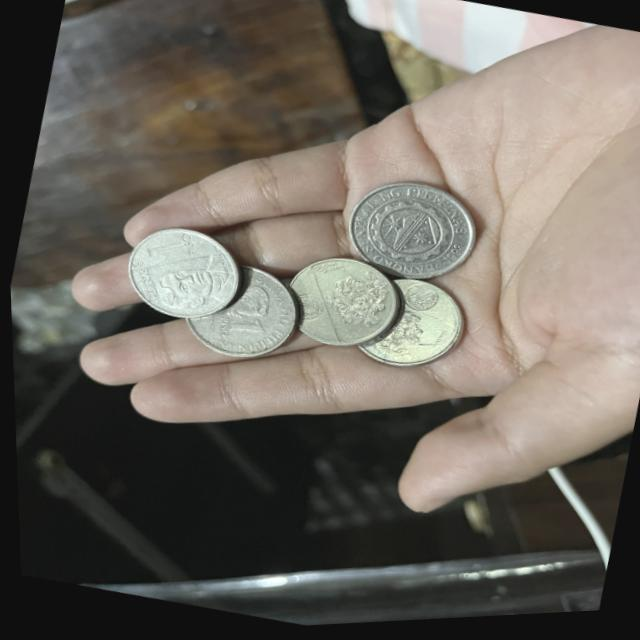1_New_Back: (313, 262, 403, 350), (359, 302, 448, 379)
1_New_Front: (132, 220, 211, 275)
1_Old_Back: (332, 167, 486, 297)
1_Old_Front: (192, 300, 281, 356)
